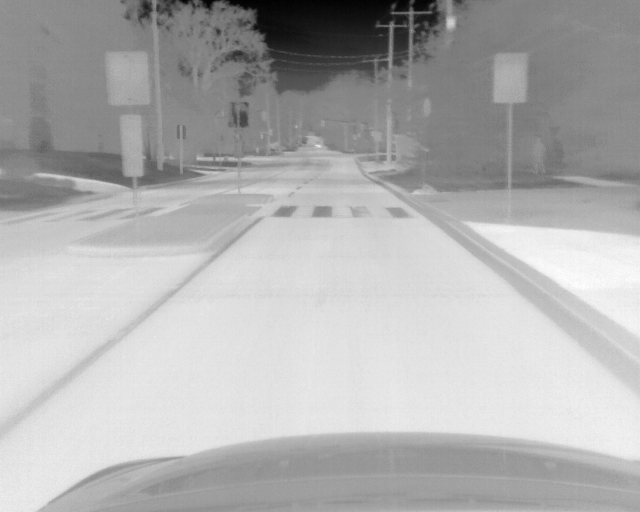people: (530, 136, 549, 174)
